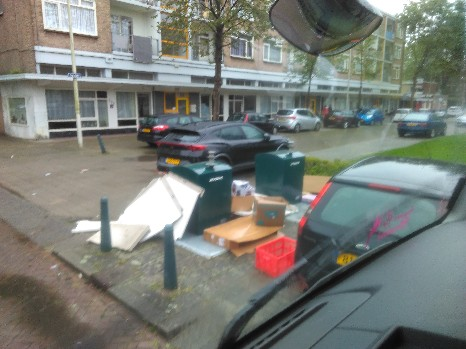Container: (181, 157, 232, 234), (259, 152, 312, 211)
Papier: (204, 191, 289, 269), (127, 167, 189, 236)
Voertuig: (327, 163, 466, 303), (174, 112, 280, 166), (133, 113, 189, 142), (337, 103, 385, 133), (244, 106, 288, 138), (280, 98, 326, 128), (393, 107, 432, 137)
